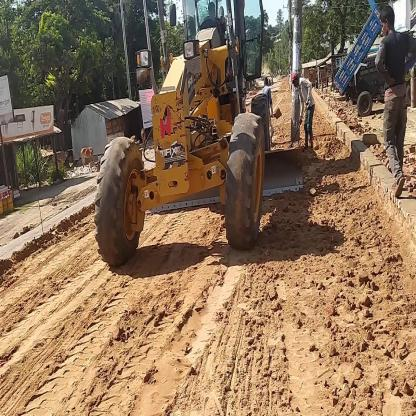bull_dozer/loader/grader: (39, 48, 400, 411)
